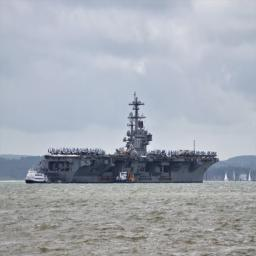Portanaves: (38, 92, 221, 182)
